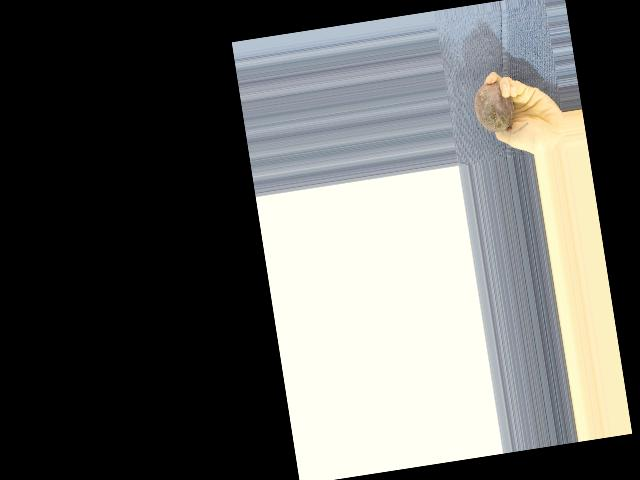beet: (471, 77, 530, 139)
